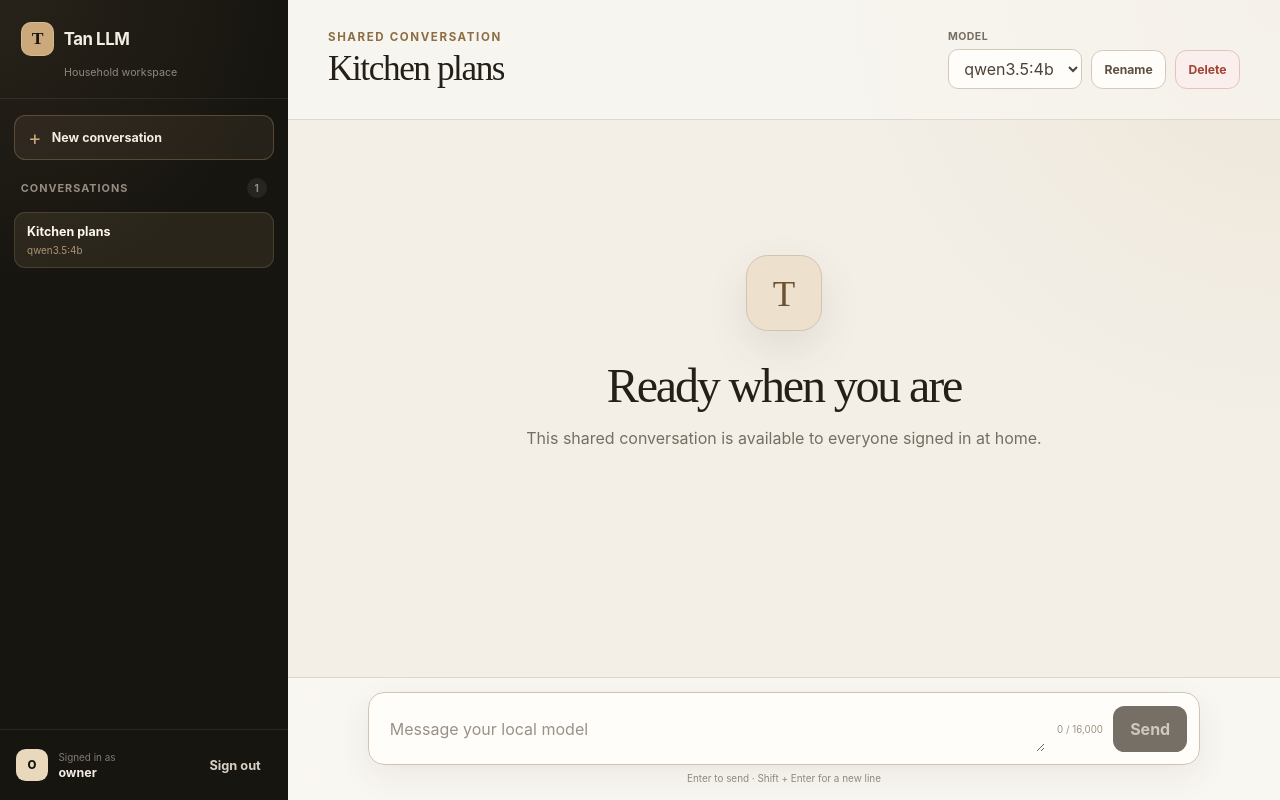
shared conversation management › requires confirmation before deleting shared history
Expected: the heading "Kitchen plans" is shown, [328,49,504,89]
Click the button "Delete".
click(1207, 70)  # box [1175,50,1240,89]
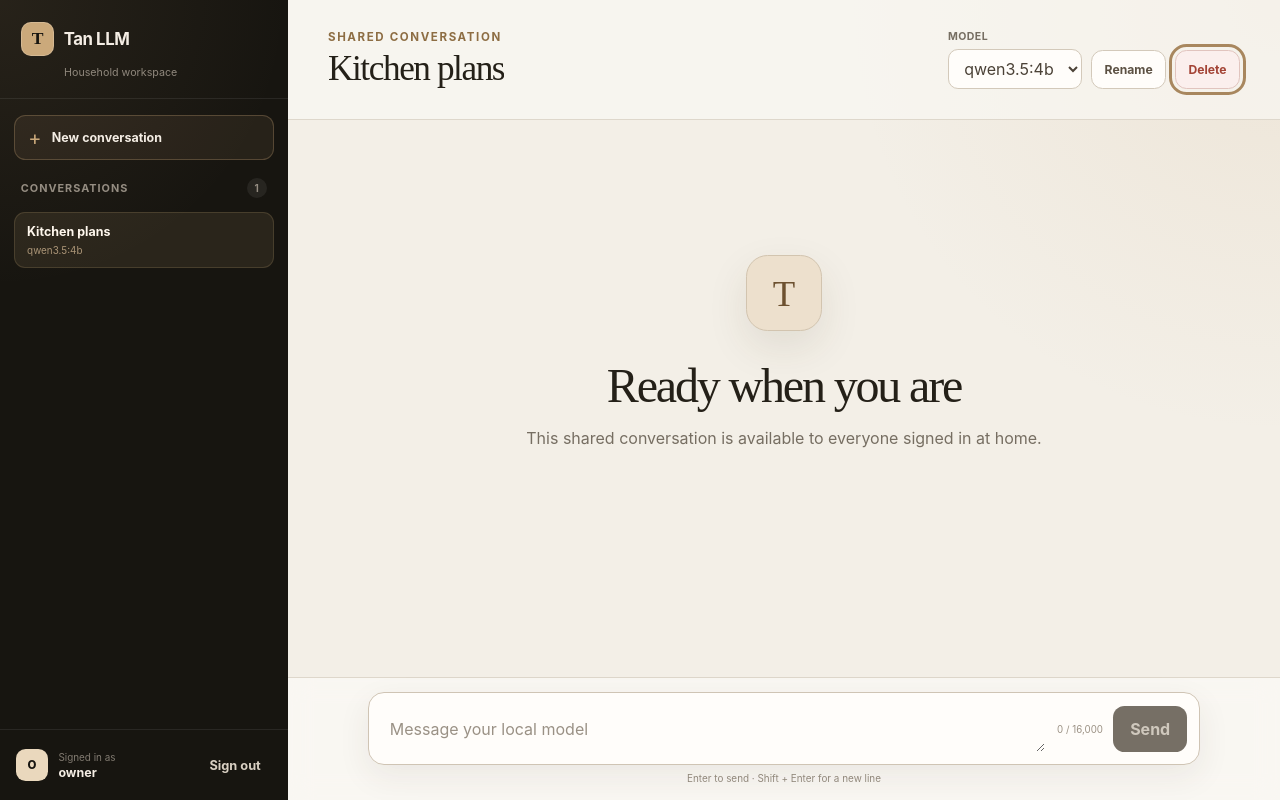
Click the button "Delete".
click(1207, 70)  # box [1175,50,1240,89]
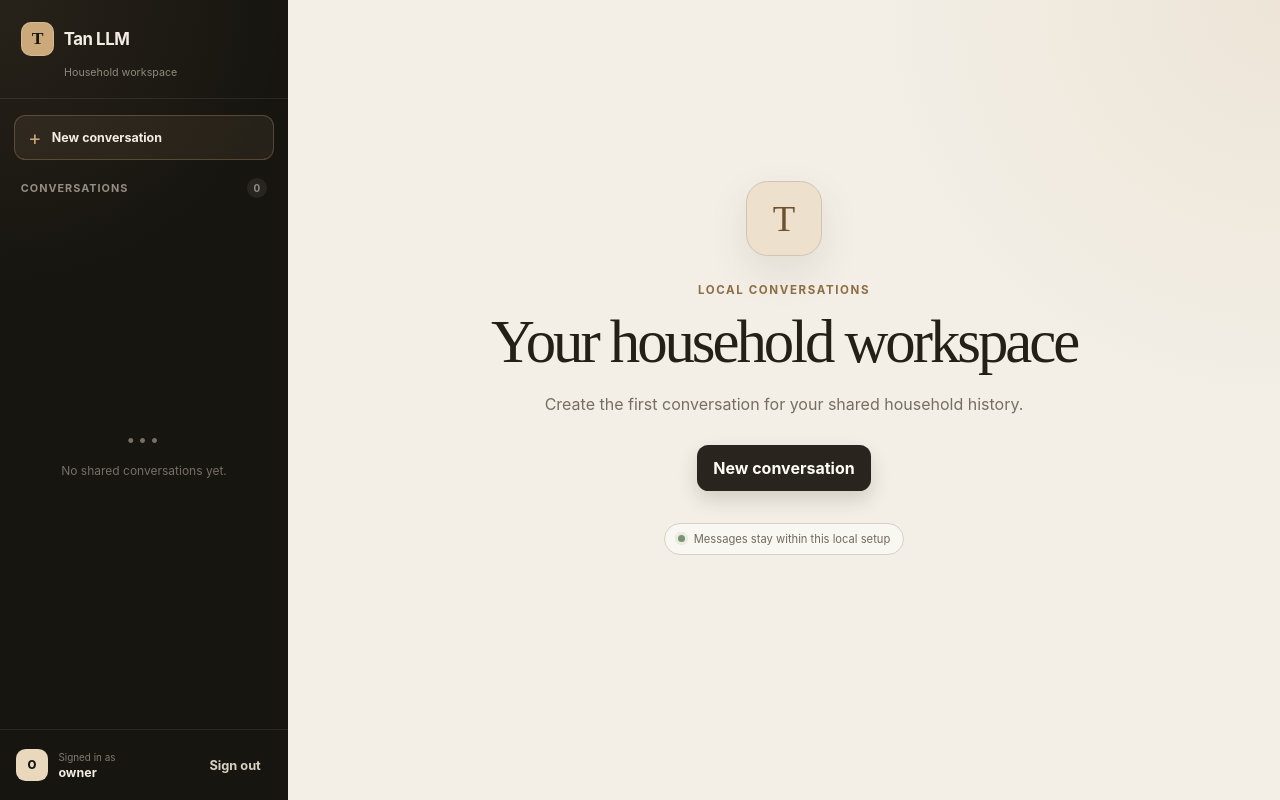
Expected: the heading "Your household workspace" is shown, [491,310,1077,374]
